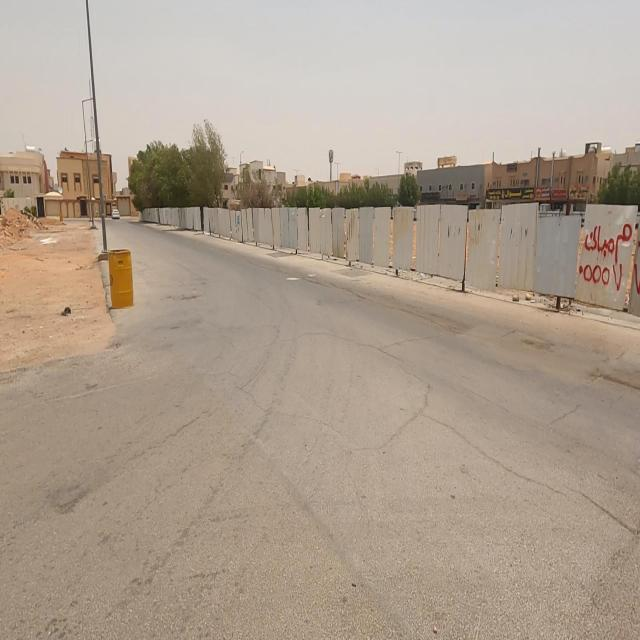Graffiti: (579, 224, 640, 295)
